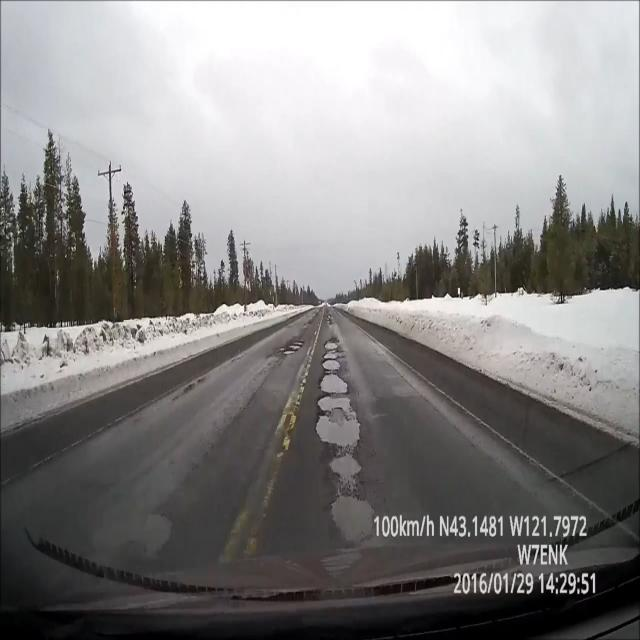Pothole: (312, 408, 365, 550), (315, 340, 354, 408), (274, 330, 308, 368), (320, 304, 334, 327)
